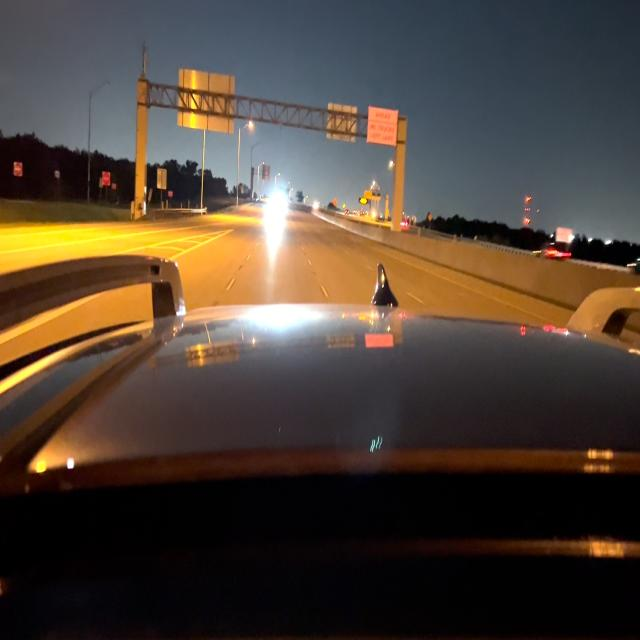back-of-sign: (179, 69, 235, 130), (327, 100, 357, 140)
